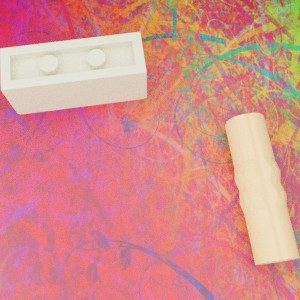lego: (0, 31, 146, 114), (224, 112, 300, 265)
